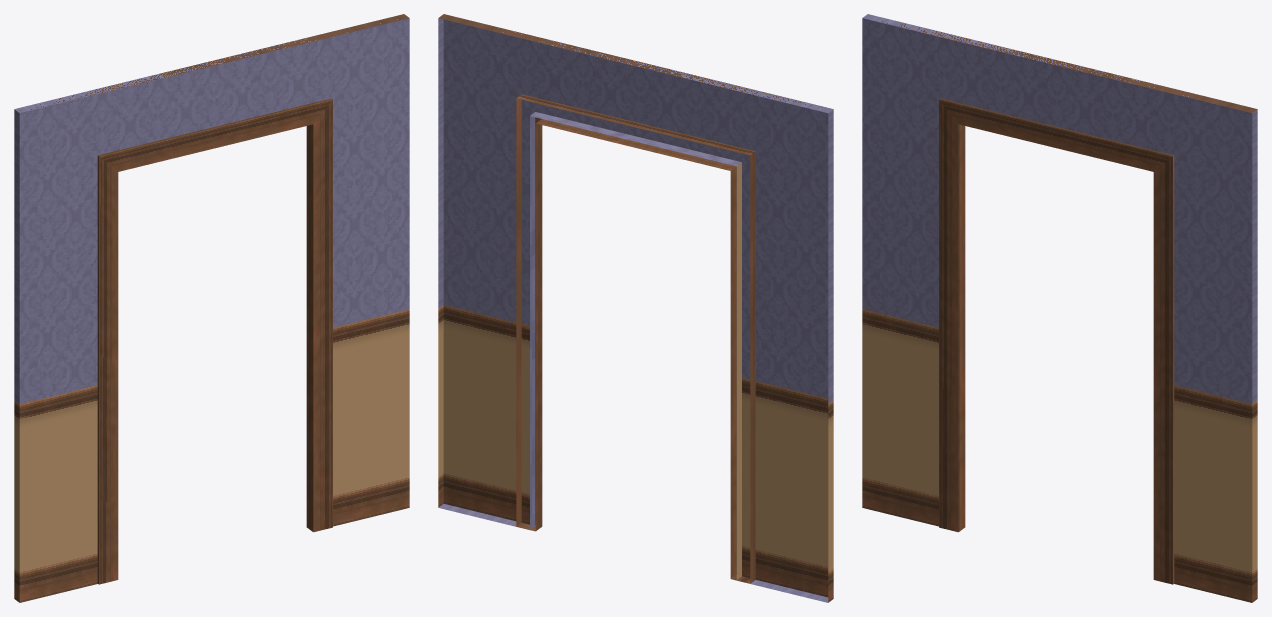
File: doorway0.glb
The picture shows the model from 3 angles, left to right: view 1: azimuth 30°, elevation 25°; view 2: azimuth 150°, elevation 25°; view 3: azimuth 330°, elevation 25°; orthographic projection.
Parts seen in each view (by area): view 1: doorway0; view 2: doorway0; view 3: doorway0.
Part boxes in pixels (x1,y1,x2,y2): doorway0: [14, 14, 409, 602]; doorway0: [438, 14, 833, 602]; doorway0: [862, 14, 1257, 602].
Bounding box in the file's own units: 2 × 2.4 × 0.06.
1 material, 1 textured.
